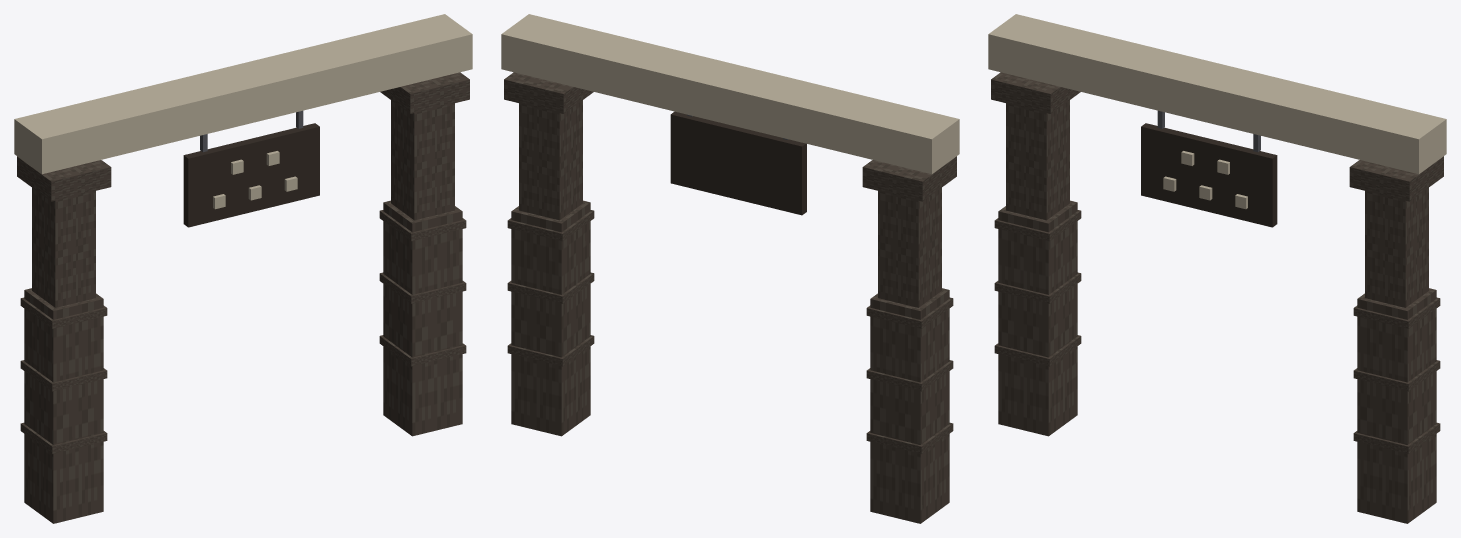
Rendered from village_gate.glb.
3 renders of one model, left to right at view 1: azimuth 30°, elevation 25°; view 2: azimuth 150°, elevation 25°; view 3: azimuth 330°, elevation 25°, orthographic.
Visible parts, largest first — view 1: gate3_0, gate3_1, gate3_2; view 2: gate3_0, gate3_1, gate3_2; view 3: gate3_0, gate3_1, gate3_2.
Part boxes in pixels (left/top/right/bottom): gate3_0: left=17, top=72, right=469, bottom=523; gate3_1: left=14, top=14, right=472, bottom=209; gate3_2: left=183, top=123, right=319, bottom=227; gate3_0: left=504, top=72, right=956, bottom=523; gate3_1: left=501, top=14, right=959, bottom=174; gate3_2: left=670, top=111, right=806, bottom=215; gate3_0: left=991, top=72, right=1443, bottom=523; gate3_1: left=988, top=14, right=1446, bottom=209; gate3_2: left=1141, top=123, right=1277, bottom=227.
Size of the model in its own units: 3.6 by 3.09 by 0.5.
2 materials, 2 textured.
